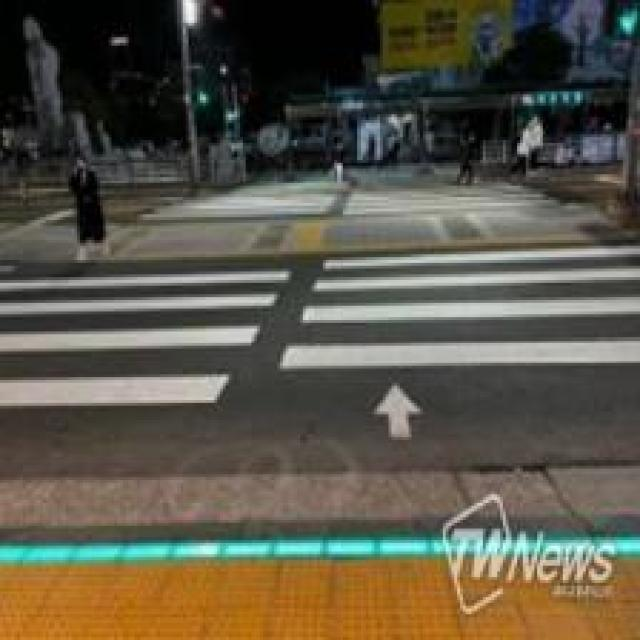crosswalk: (1, 230, 640, 430)
